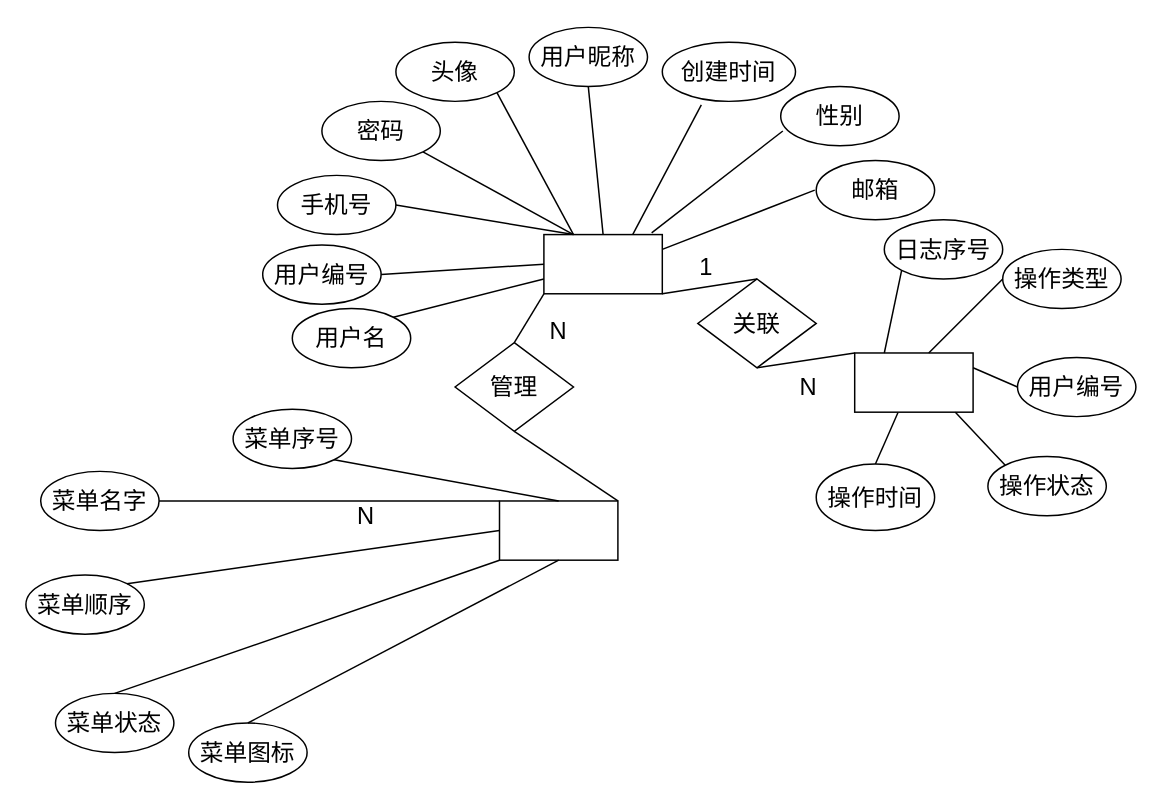
This 1162x810 diagram has some shape labels left out. The shapes that lost their labels are listed below. From the top down, each one's box as (x1, y1, x2, y2) in pixels, then its label:
(542, 233, 662, 294): 用户
(853, 352, 973, 412): 操作日志
(498, 500, 618, 560): 菜单
